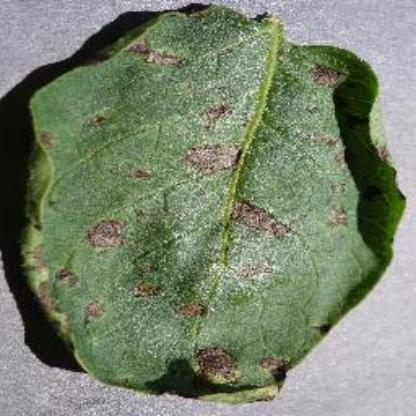Early-Blight: (20, 2, 404, 404)
